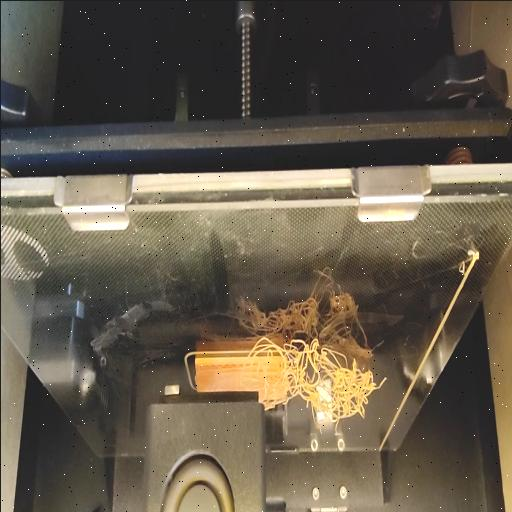spaghetti: (264, 325, 383, 439)
